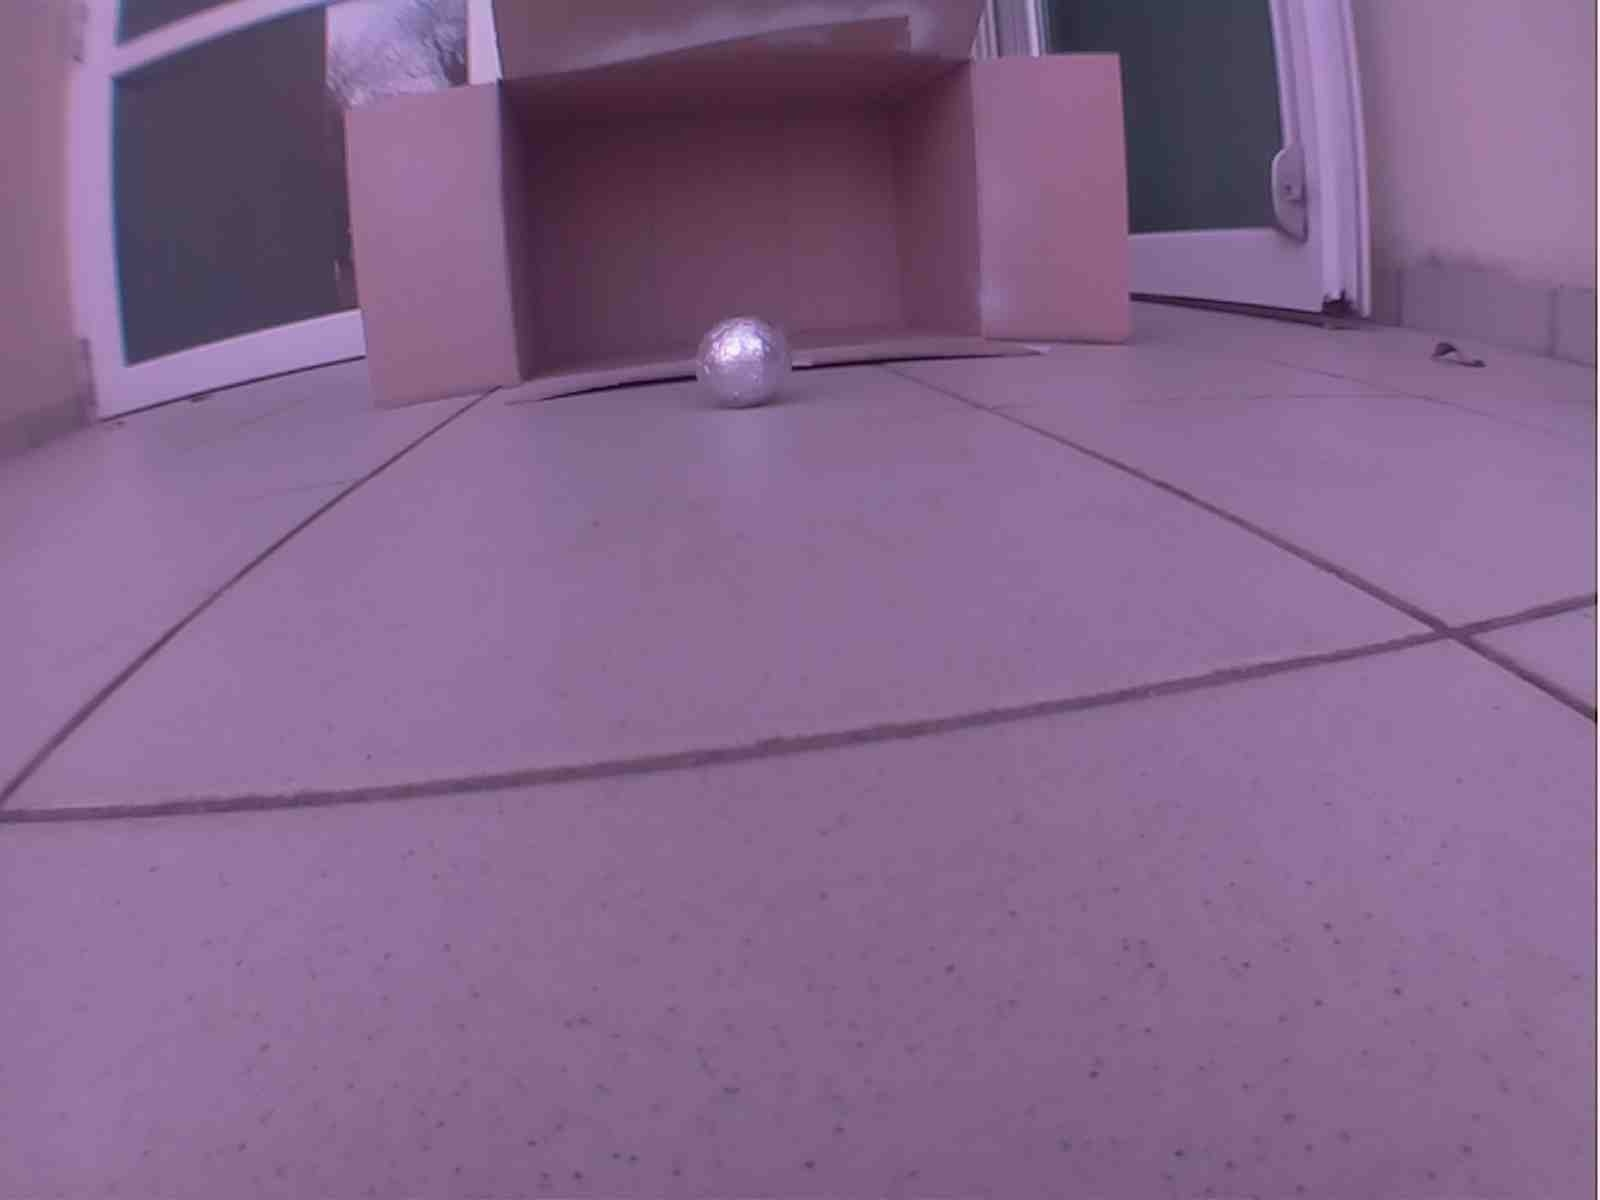bianca: (685, 314, 790, 407)
